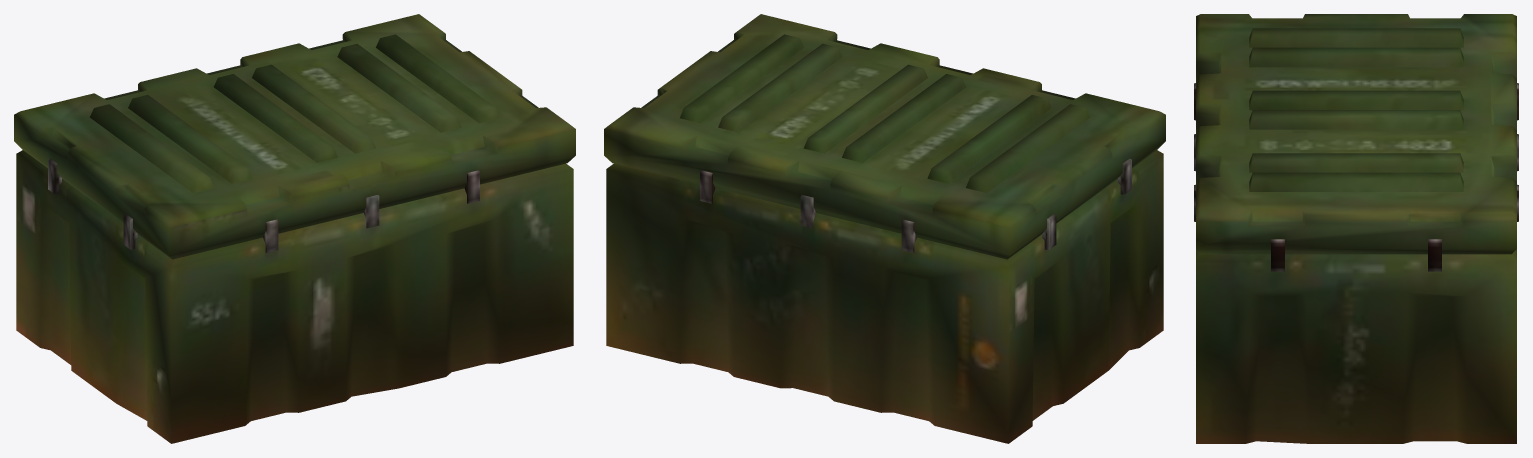
File: mb-ammo-crate.lod1.glb
3 renders of one model, left to right at view 1: azimuth 30°, elevation 25°; view 2: azimuth 150°, elevation 25°; view 3: azimuth 270°, elevation 25°, orthographic. The views are drawn at different scales.
Visible parts, largest first — view 1: Crate_02_low_Crate_0; view 2: Crate_02_low_Crate_0; view 3: Crate_02_low_Crate_0.
Boxes of the visible parts, x1=… form: Crate_02_low_Crate_0: x1=14, y1=14, x2=575, y2=443; Crate_02_low_Crate_0: x1=604, y1=14, x2=1165, y2=443; Crate_02_low_Crate_0: x1=1194, y1=14, x2=1518, y2=443.
Size of the model in its own units: 1.2 by 0.6421 by 0.794.
Materials: 1 (1 with a texture image).
